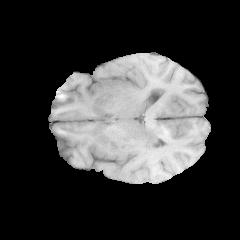glioma: (97, 114, 167, 160)
